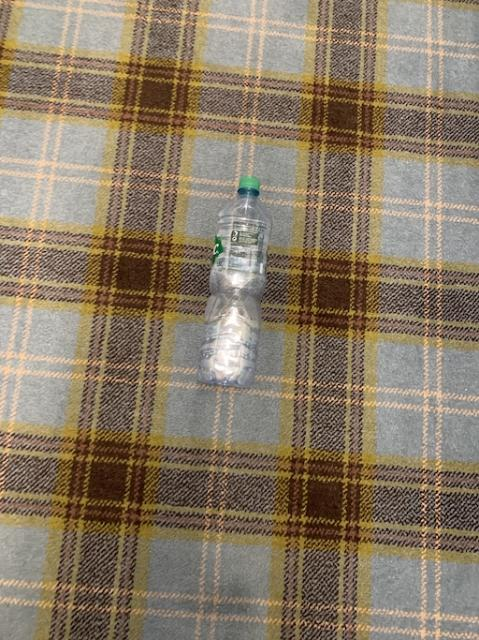plastic: (198, 175, 271, 385)
